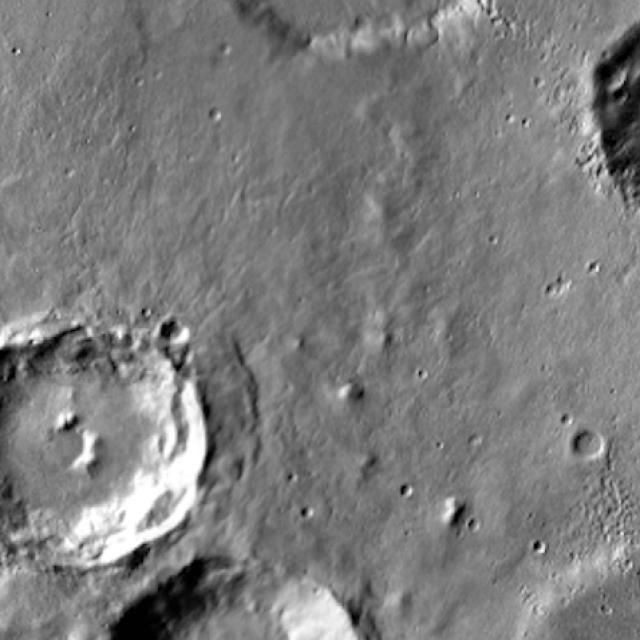Crater: (0, 282, 213, 597), (84, 527, 394, 640), (192, 0, 538, 89), (585, 0, 640, 276), (0, 0, 186, 25)
